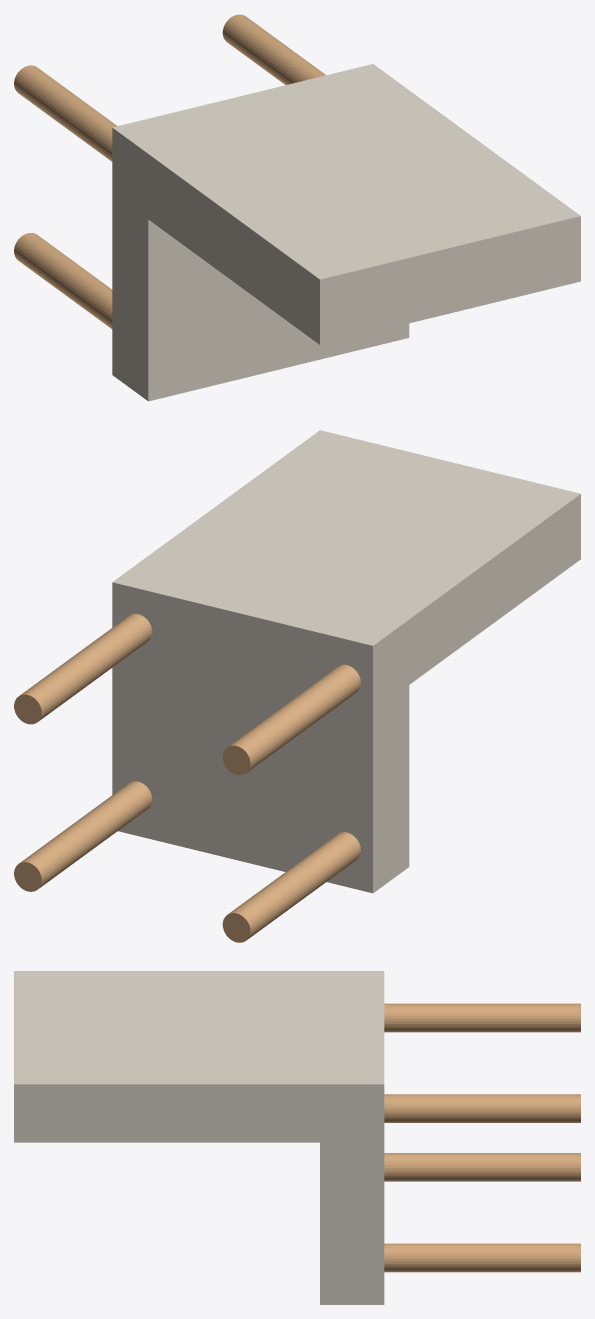
Rendered from single-chairs.glb.
The picture shows the model from 3 angles, top to bottom: view 1: azimuth 30°, elevation 25°; view 2: azimuth 150°, elevation 25°; view 3: azimuth 270°, elevation 25°; orthographic projection. The views are drawn at different scales.
Parts seen in each view (by area): view 1: Back, Seat, world, Leg; view 2: Seat, Back, world, Leg; view 3: Back, Seat, world, Leg.
Part boxes in pixels (x1,y1,x2,y2): Back: (129,76,580,344); Seat: (112,64,409,401); world: (14,65,117,328); Leg: (222,14,325,84); Seat: (112,556,409,893); Back: (148,430,580,698); world: (14,664,360,942); Leg: (14,613,152,724); Back: (14,971,353,1142); Seat: (320,971,384,1304); world: (384,1003,580,1272); Leg: (384,1094,580,1122).
Size of the model in its own units: 0.75 by 0.68 by 1.59.
